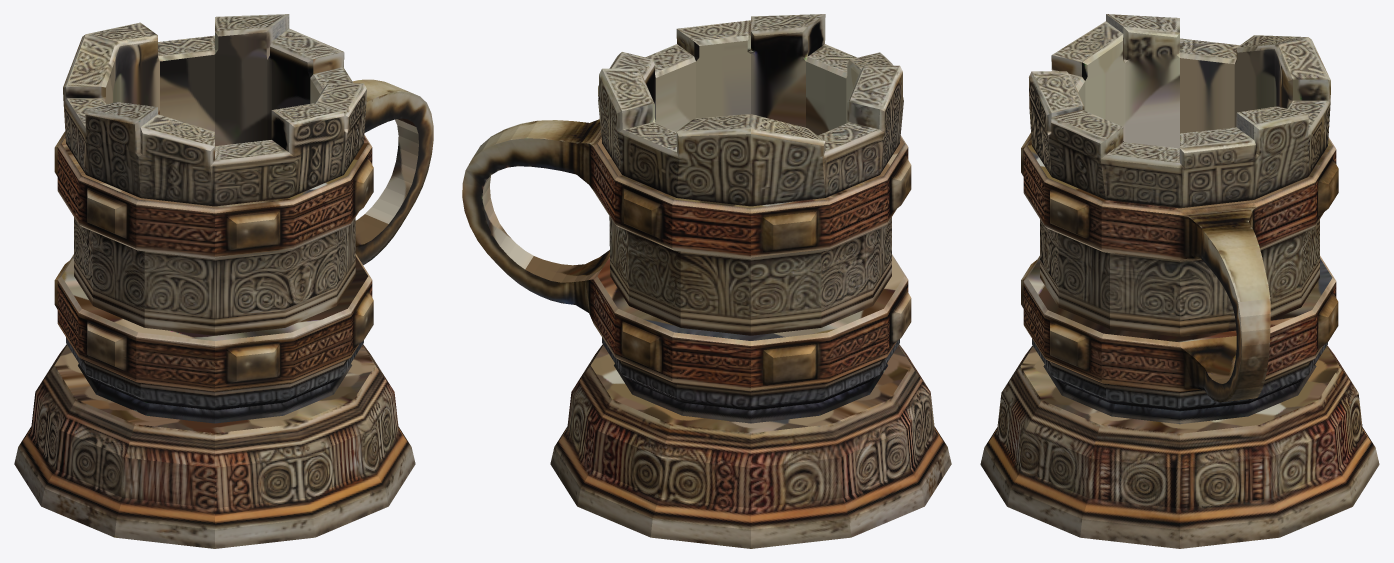
3 views of the same model, side by side, from view 1: azimuth 30°, elevation 25°; view 2: azimuth 150°, elevation 25°; view 3: azimuth 270°, elevation 25° (orthographic).
Parts seen in each view (by area): view 1: textured.obj; view 2: textured.obj; view 3: textured.obj.
Boxes of the visible parts, bbox=[...] form: textured.obj: bbox=[14, 14, 433, 548]; textured.obj: bbox=[462, 14, 951, 548]; textured.obj: bbox=[980, 14, 1379, 548].
Size of the model in its own units: 2 by 1.8 by 1.64.
